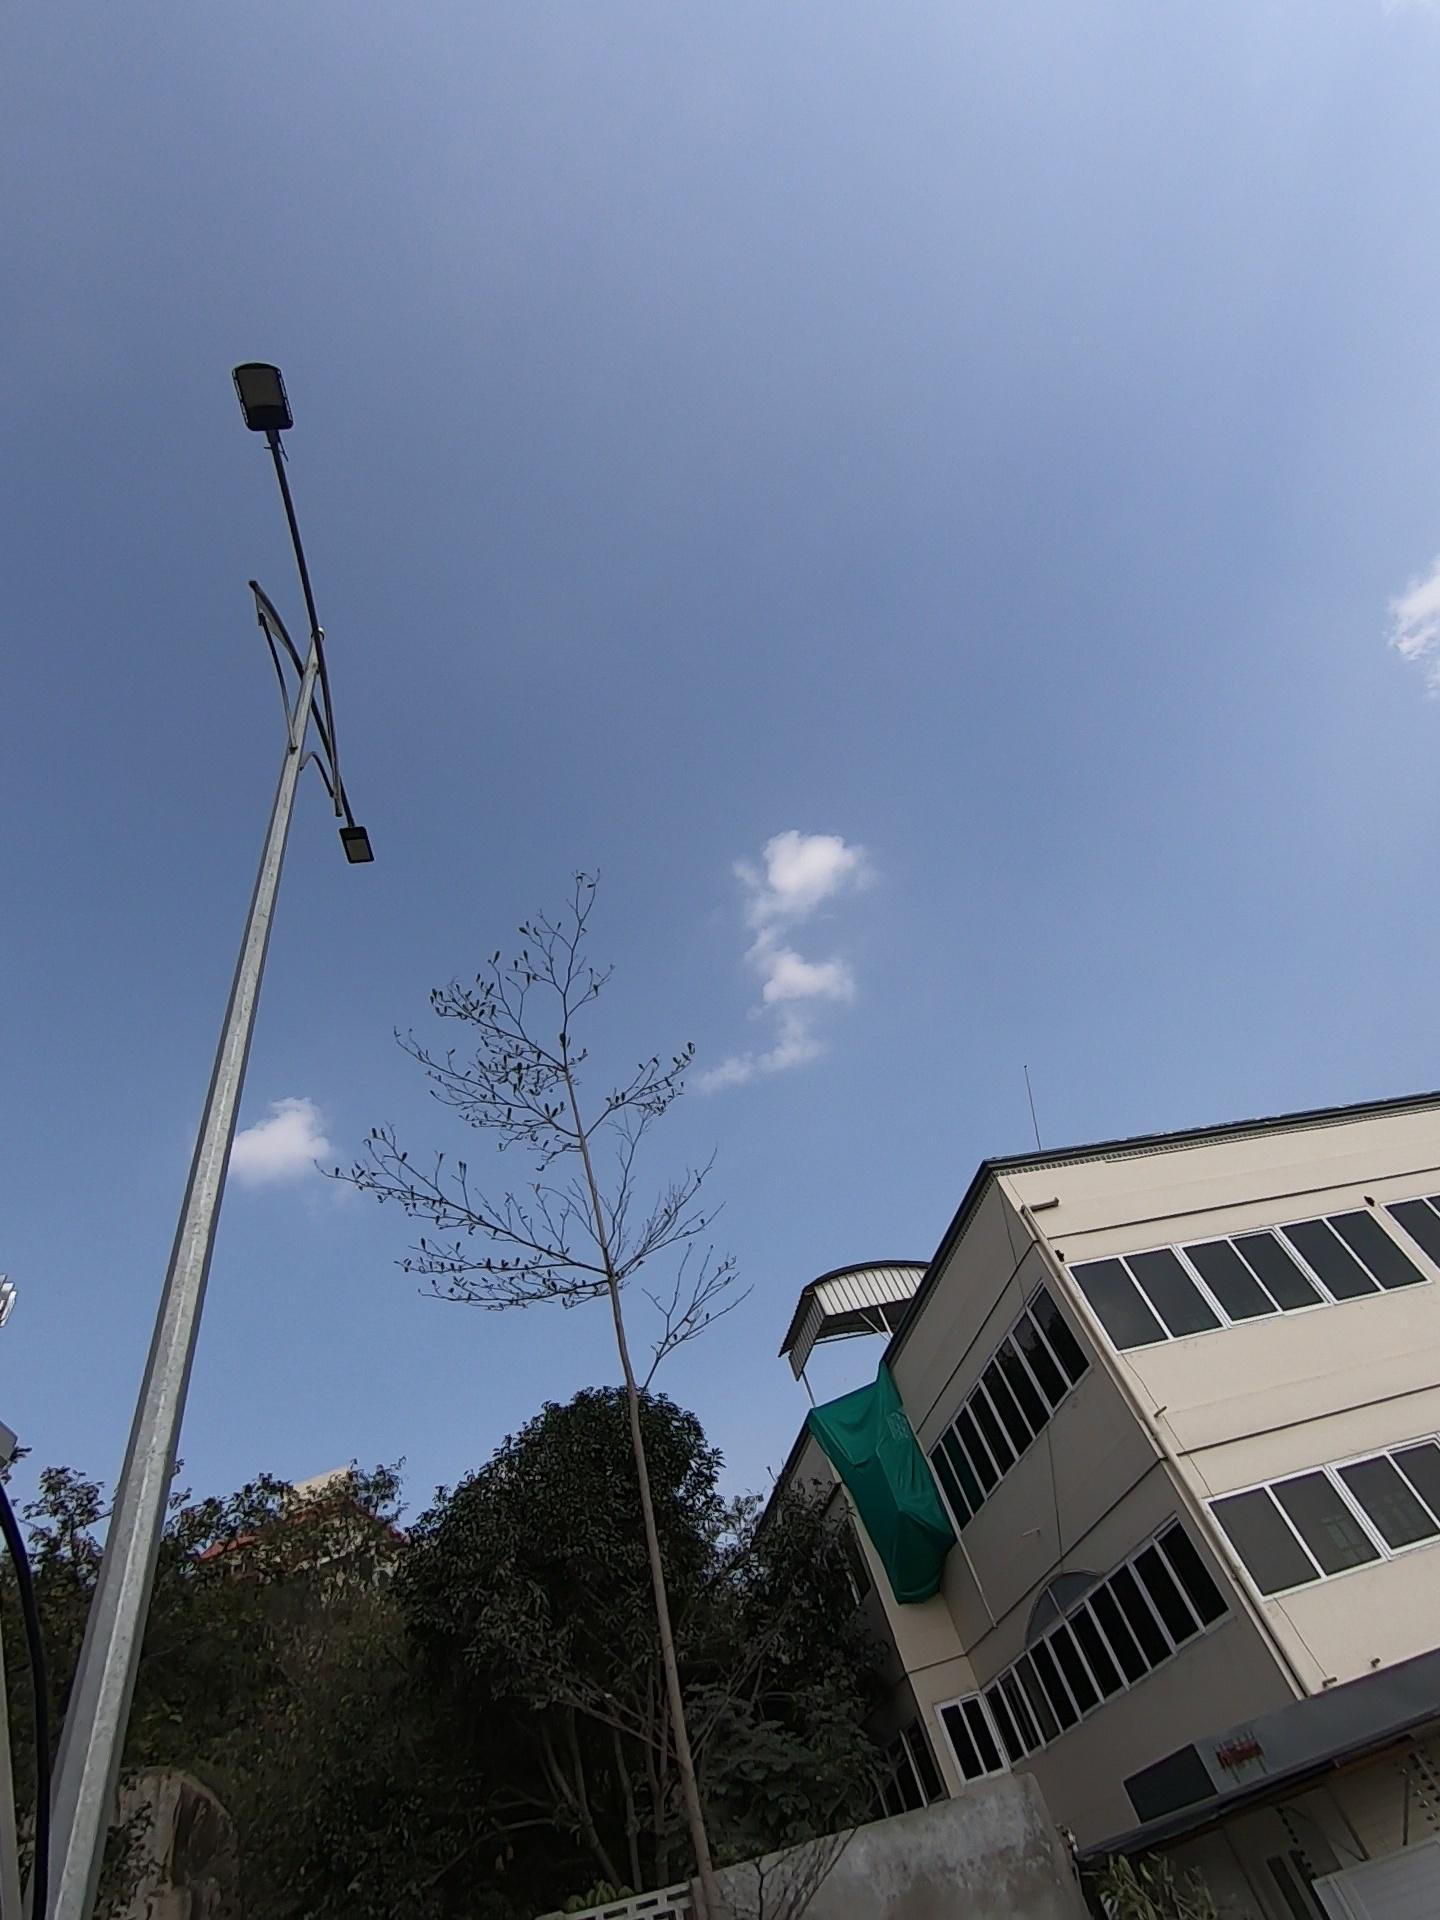off: (195, 311, 487, 907)
